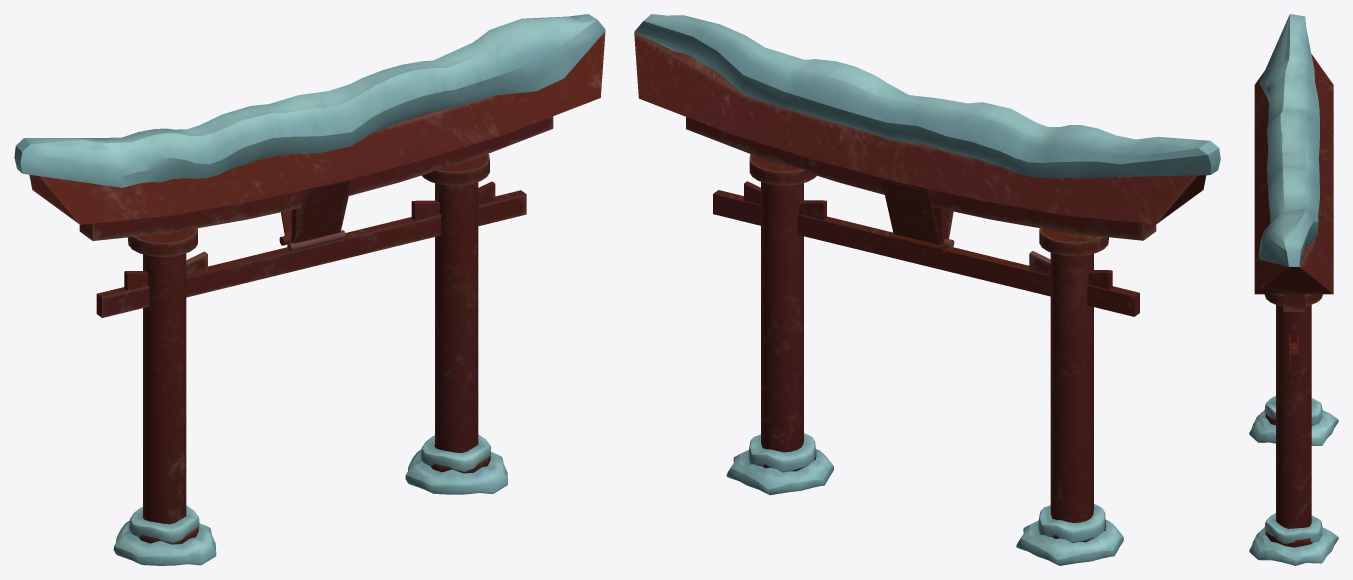
The model's file is SM_Tori_V2.fbx.
3 renders of one model, left to right at view 1: azimuth 30°, elevation 25°; view 2: azimuth 150°, elevation 25°; view 3: azimuth 270°, elevation 25°, orthographic. The views are drawn at different scales.
Visible parts, largest first — view 1: SM_ToriSnow1, SM_Tori1, SM_Tori9, SM_Tori11, SM_Tori2, SM_Tori6, SM_ToriSnow5, SM_ToriSnow3, SM_Tori10, SM_ToriSnow4, SM_ToriSnow2, SM_Tori4 (+2 smaller); view 2: SM_Tori1, SM_ToriSnow1, SM_Tori11, SM_Tori9, SM_Tori2, SM_Tori6, SM_ToriSnow3, SM_ToriSnow5, SM_ToriSnow2, SM_ToriSnow4, SM_Tori10, SM_Tori4 (+2 smaller); view 3: SM_ToriSnow1, SM_Tori1, SM_Tori9, SM_ToriSnow3, SM_ToriSnow5, SM_ToriSnow2, SM_ToriSnow4, SM_Tori4, SM_Tori2.
Part boxes in pixels (x1,y1,x2,y2): SM_ToriSnow1: (14, 14, 605, 187); SM_Tori1: (29, 31, 605, 240); SM_Tori9: (430, 182, 490, 473); SM_Tori11: (138, 253, 198, 544); SM_Tori2: (96, 190, 526, 317); SM_Tori6: (279, 179, 352, 251); SM_ToriSnow5: (113, 520, 216, 565); SM_ToriSnow3: (405, 449, 507, 494); SM_Tori10: (128, 227, 197, 256); SM_ToriSnow4: (128, 505, 199, 543); SM_ToriSnow2: (420, 434, 490, 471); SM_Tori4: (422, 154, 489, 185); SM_Tori1: (634, 32, 1206, 240); SM_ToriSnow1: (634, 14, 1220, 178); SM_Tori11: (1038, 252, 1105, 542); SM_Tori9: (748, 182, 816, 471); SM_Tori2: (713, 190, 1139, 316); SM_Tori6: (875, 176, 954, 253); SM_ToriSnow3: (726, 449, 833, 495); SM_ToriSnow5: (1016, 520, 1123, 565); SM_ToriSnow2: (748, 433, 815, 472); SM_ToriSnow4: (1038, 504, 1105, 543); SM_Tori10: (1039, 227, 1108, 256); SM_Tori4: (749, 154, 816, 185); SM_ToriSnow1: (1259, 14, 1319, 266); SM_Tori1: (1254, 54, 1333, 311); SM_Tori9: (1265, 305, 1312, 547); SM_ToriSnow3: (1249, 527, 1338, 565); SM_ToriSnow5: (1249, 410, 1338, 445); SM_ToriSnow2: (1264, 513, 1322, 543); SM_ToriSnow4: (1264, 396, 1322, 425); SM_Tori4: (1264, 294, 1322, 306); SM_Tori2: (1289, 334, 1298, 370).
Size of the model in its own units: 9.92 by 7.14 by 1.6.
